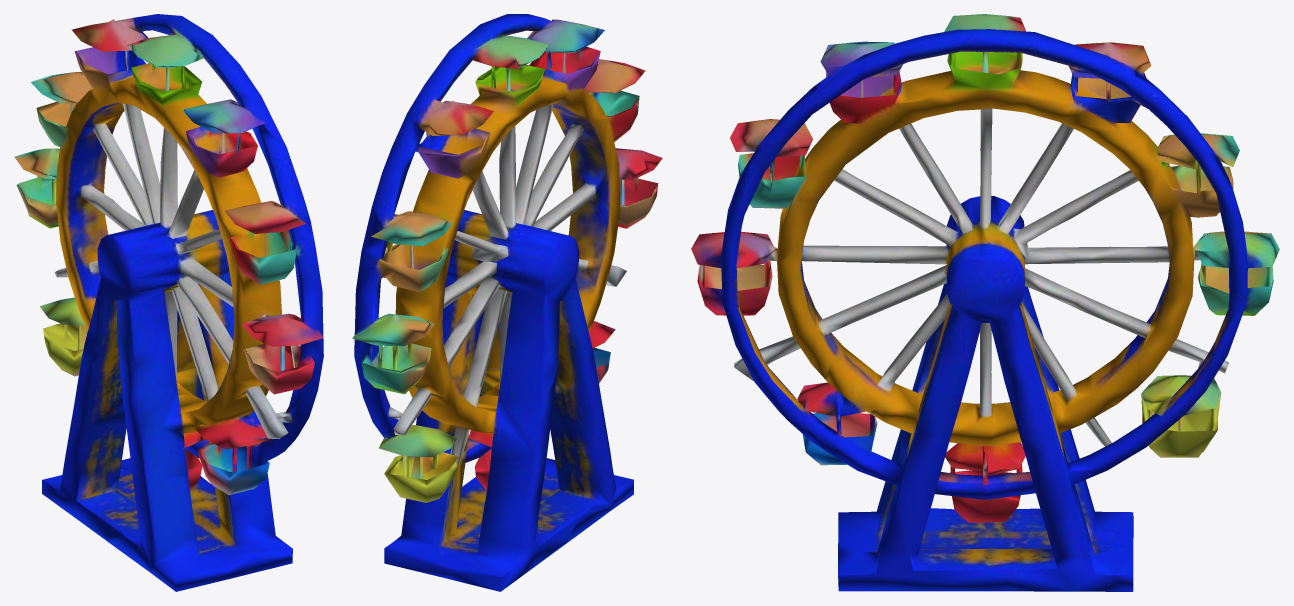
Rendered from ferris-wheel.glb.
3 renders of one model, left to right at view 1: azimuth 30°, elevation 25°; view 2: azimuth 150°, elevation 25°; view 3: azimuth 270°, elevation 25°, orthographic. The views are drawn at different scales.
Visible parts, largest first — view 1: tripo_node_f6adff0e-390b-433a-ac6b-78149e284dcc; view 2: tripo_node_f6adff0e-390b-433a-ac6b-78149e284dcc; view 3: tripo_node_f6adff0e-390b-433a-ac6b-78149e284dcc.
Boxes of the visible parts, x1,y1,x2,y2 form: tripo_node_f6adff0e-390b-433a-ac6b-78149e284dcc: (14, 14, 323, 591); tripo_node_f6adff0e-390b-433a-ac6b-78149e284dcc: (352, 14, 662, 591); tripo_node_f6adff0e-390b-433a-ac6b-78149e284dcc: (691, 14, 1279, 591).
Size of the model in its own units: 0.2505 by 1 by 0.9823.
Materials: 1 (1 with a texture image).
